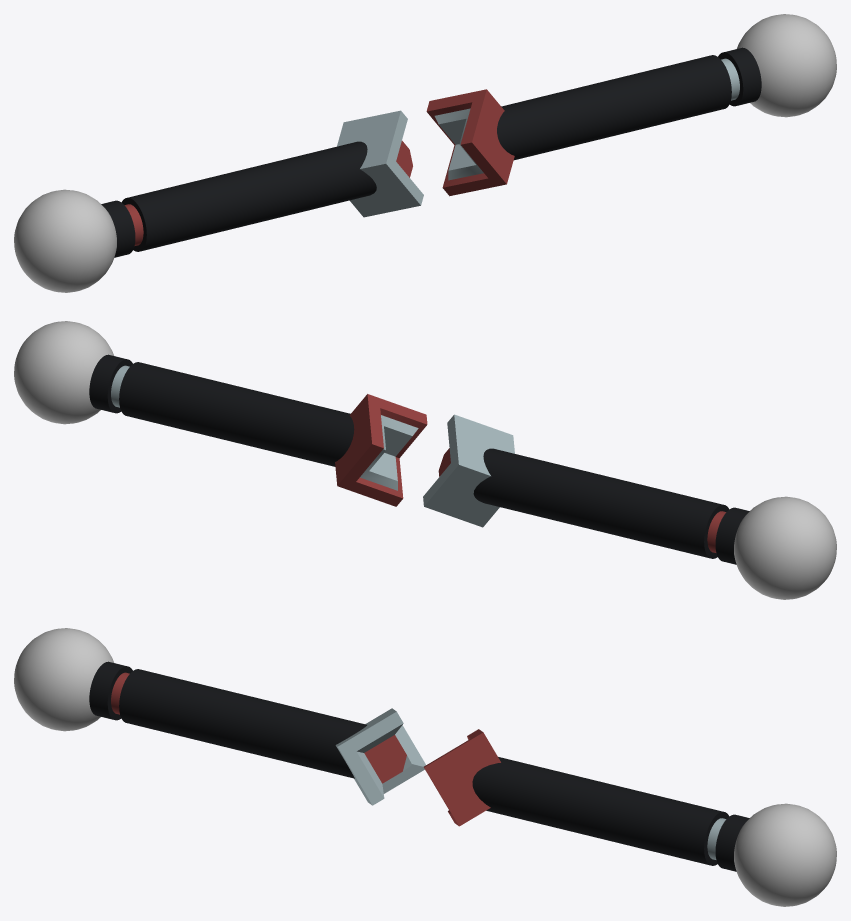
The picture shows the model from 3 angles, top to bottom: view 1: azimuth 30°, elevation 25°; view 2: azimuth 150°, elevation 25°; view 3: azimuth 330°, elevation 25°; orthographic projection.
Parts seen in each view (by area): view 1: CG; view 2: CG; view 3: CG.
Part boxes in pixels (x1,y1,x2,y2): CG: [14, 14, 836, 292]; CG: [14, 321, 836, 599]; CG: [14, 628, 836, 906].
Size of the model in its own units: 1198 by 144 by 132.
